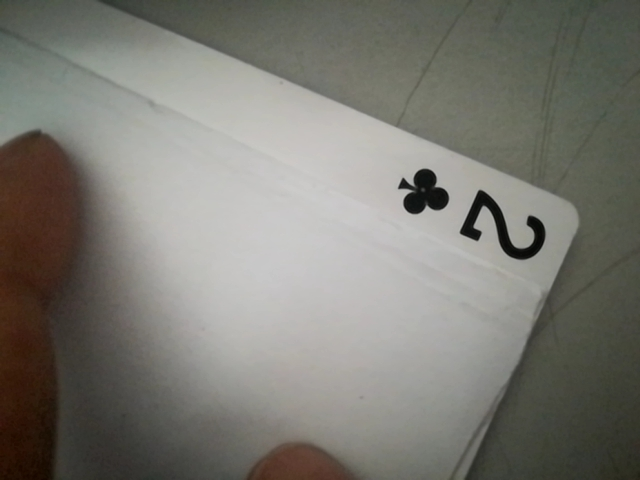mh 2: (384, 162, 562, 271)
